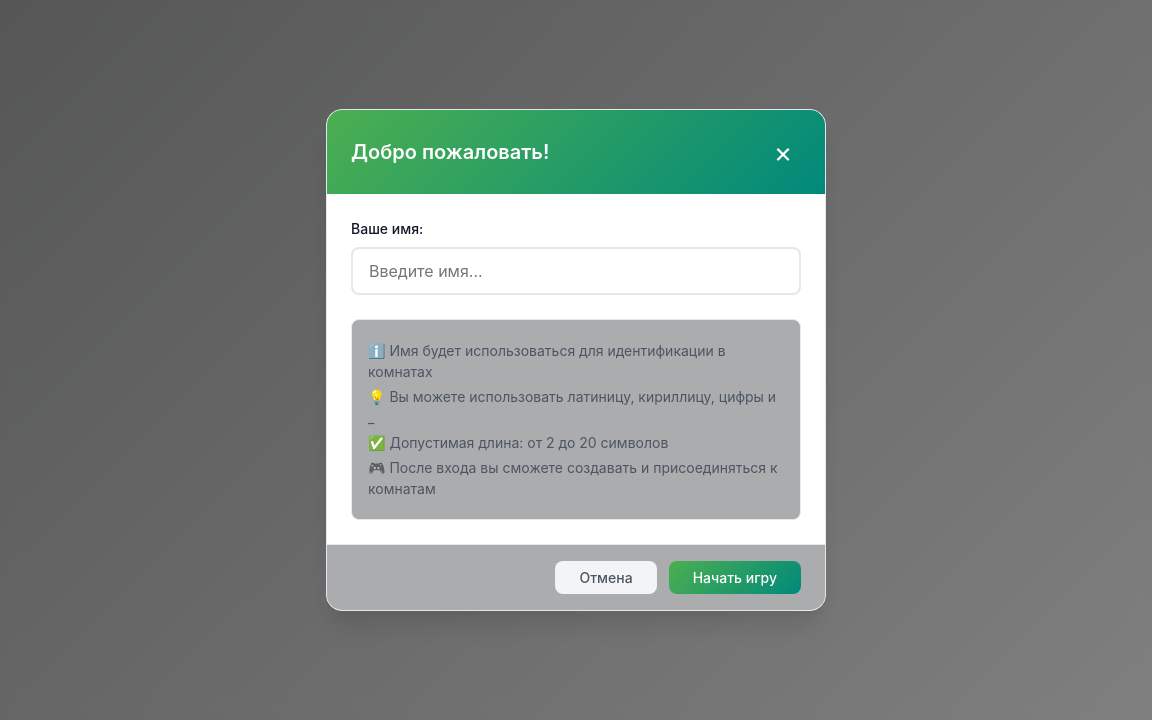
Test: UserModal › validates empty username
Click the button "Начать игру": x=735, y=578 [669,561,801,594]
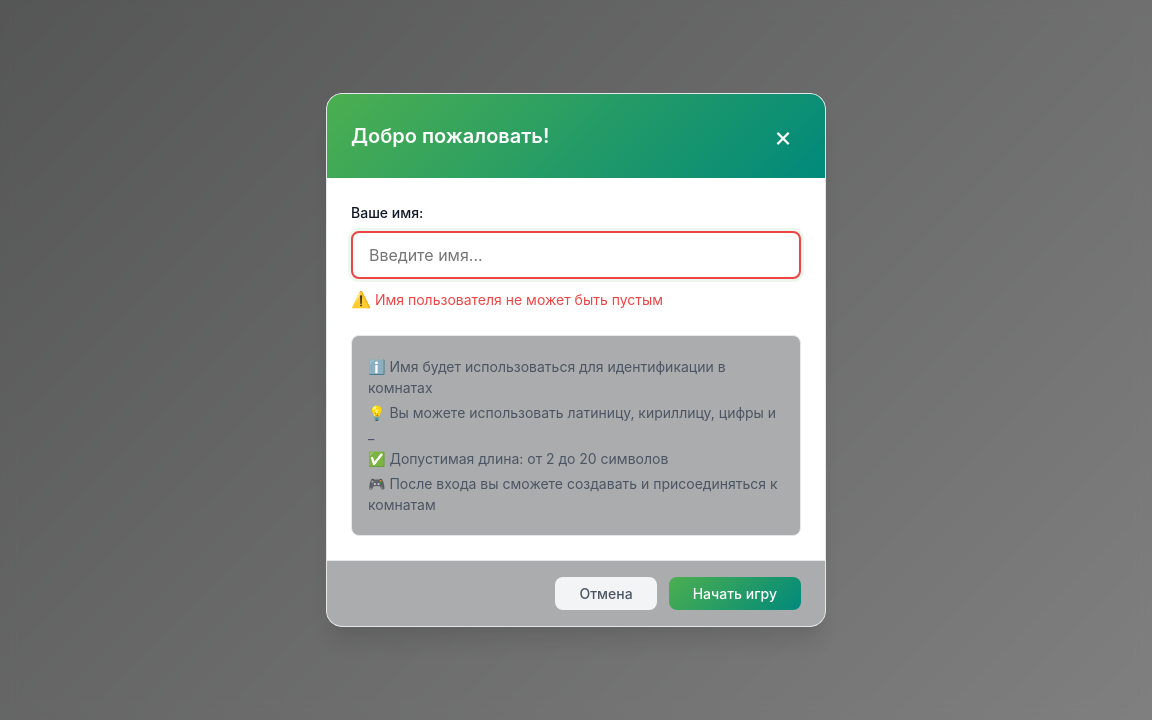
expect the text "Имя пользователя не может быть пустым" is shown: met, box [375,290,663,308]
